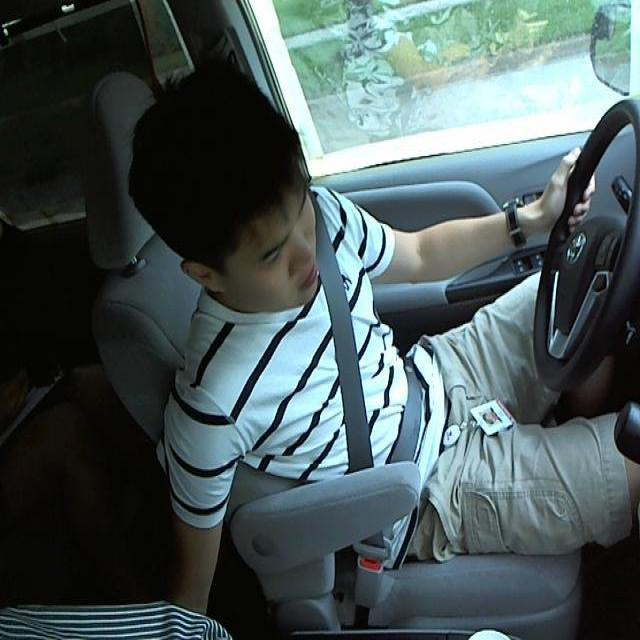seatbelt: (313, 231, 423, 484)
